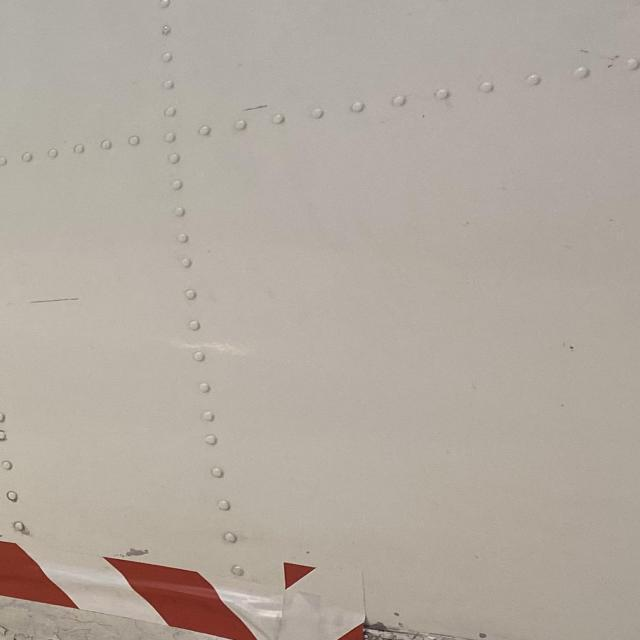Crack: (367, 622, 464, 640)
Paint-off: (0, 598, 221, 640), (100, 541, 176, 565), (392, 607, 409, 626)
